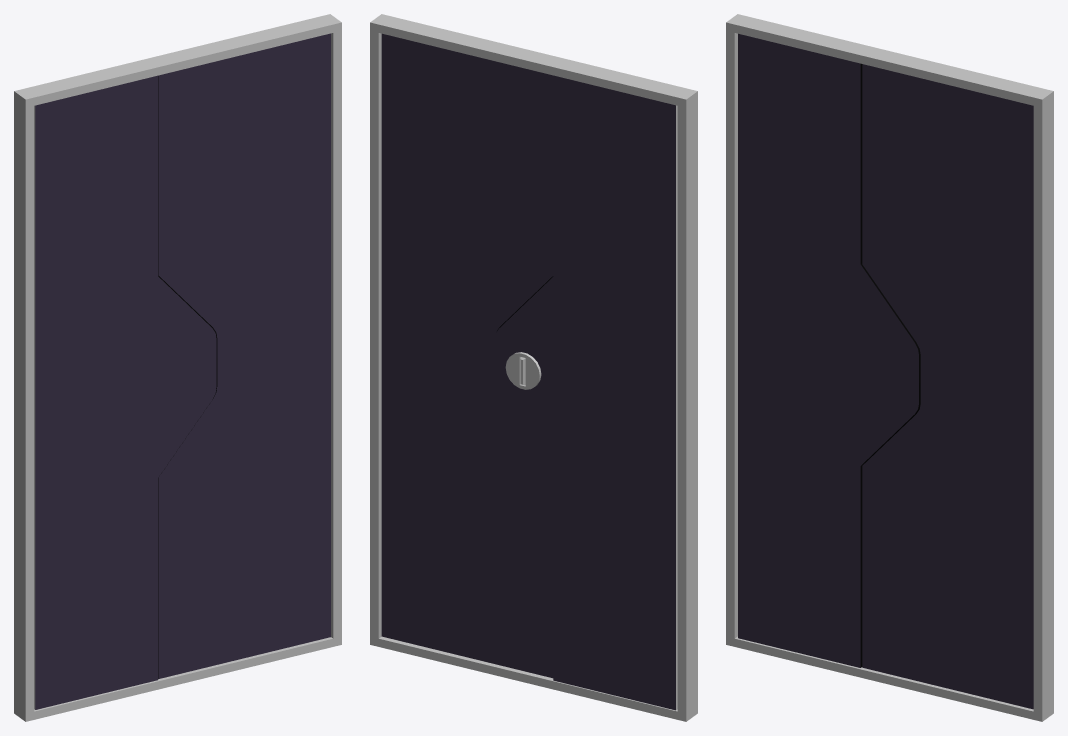
Rendered from Door.fbx.
3 views of the same model, side by side, from view 1: azimuth 30°, elevation 25°; view 2: azimuth 150°, elevation 25°; view 3: azimuth 330°, elevation 25° (orthographic).
Visible parts, largest first — view 1: Door; view 2: Door; view 3: Door.
Boxes of the visible parts, box(x1,y1,x2,y2) form: Door: box(14, 14, 341, 721); Door: box(370, 14, 697, 721); Door: box(726, 14, 1053, 721).
Bounding box in the file's own units: 42.09 × 79.16 × 3.12.
